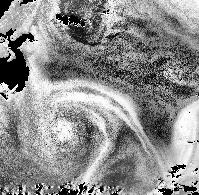CE: (17, 80, 112, 175)
